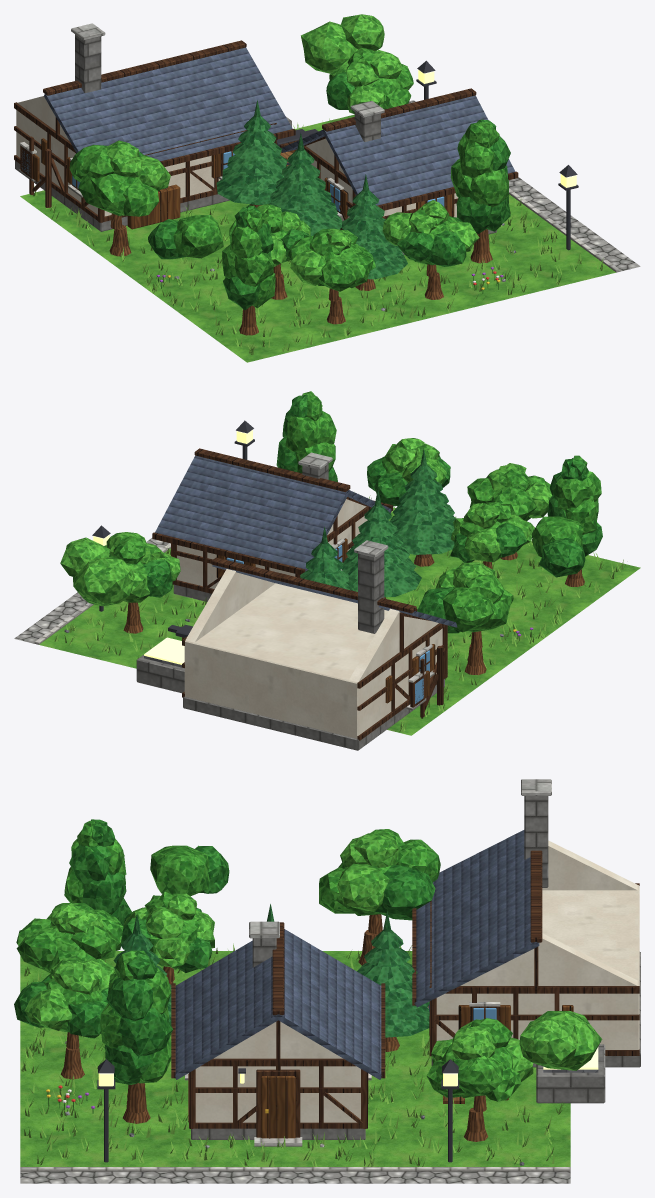
File: chunk_1_3.glb
3 renders of one model, top to bottom at view 1: azimuth 30°, elevation 25°; view 2: azimuth 150°, elevation 25°; view 3: azimuth 270°, elevation 25°, orthographic. The views are drawn at different scales.
Visible parts, largest first — view 1: chunk_1_3; view 2: chunk_1_3; view 3: chunk_1_3.
Part boxes in pixels (<box>): chunk_1_3: <box>14,14,640,362</box>; chunk_1_3: <box>14,391,640,750</box>; chunk_1_3: <box>14,779,640,1183</box>.
Bounding box in the file's own units: 16.74 × 6.39 × 18.22.
Materials: 26 (17 with a texture image).
